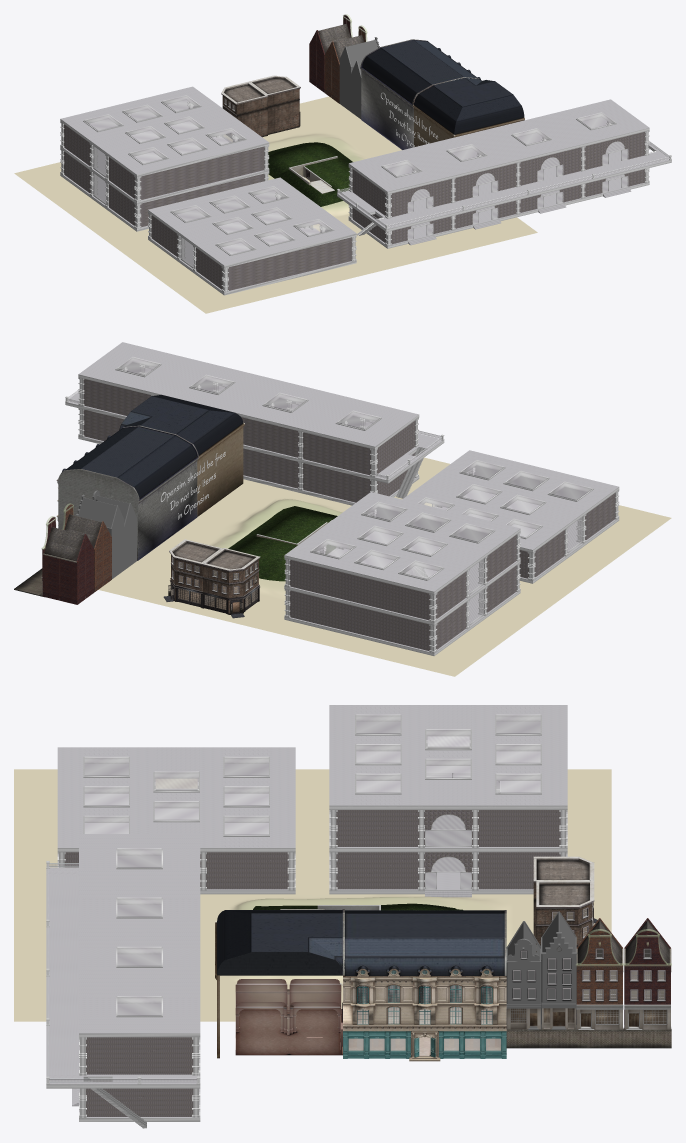
The picture shows the model from 3 angles, top to bottom: view 1: azimuth 30°, elevation 25°; view 2: azimuth 150°, elevation 25°; view 3: azimuth 270°, elevation 25°; orthographic projection. The views are drawn at different scales.
Parts seen in each view (by area): view 1: SC - SMBLDG04A - Building 04A, SC - SMBLDG02AV2 - Building 02AV2, SC - SMBLDG02V2 - Building 02V2, Onsu ~ Commercial Prefab ~ Base1 (×2), SC - SMBLDG04 - Building 04, Terrain 4,8, Onsu ~ Commercial Prefab ~ Inner Corner (×2), Terrain 5,8, Terrain 5,9, Terrain 4,9, CaveShopCover (×2), Soho - Building 1 Corner - Bricks (×3) (+7 smaller); view 2: SC - SMBLDG02AV2 - Building 02AV2, SC - SMBLDG04A - Building 04A, SC - SMBLDG02V2 - Building 02V2, Onsu ~ Commercial Prefab ~ Base1 (×3), Terrain 5,9, Terrain 4,9, Onsu ~ Commercial Prefab ~ Inner Corner (×2), Terrain 4,8, prim0-mesh#36 (×2), Terrain 5,8, CaveShopCover (×2), Soho - Building 1 Corner - Bricks (×4) (+7 smaller); view 3: SC - SMBLDG02AV2 - Building 02AV2, SC - SMBLDG04A - Building 04A, SC - SMBLDG02V2 - Building 02V2, Onsu ~ Commercial Prefab ~ Base1 (×8), Onsu ~ Commercial Prefab ~ Inner Corner (×5), Terrain 5,8, Terrain 4,8, SC - SMBLDG04 - Building 04 (×2), Terrain 4,9, SC - SMBLD01 - floor (×3), prim0-mesh#36 (×2), prim0-mesh_0 (+8 smaller).
Part boxes in pixels (<box>): SC - SMBLDG04A - Building 04A: <box>338,99,669,248</box>; SC - SMBLDG02AV2 - Building 02AV2: <box>60,86,269,231</box>; SC - SMBLDG02V2 - Building 02V2: <box>148,177,356,295</box>; Onsu ~ Commercial Prefab ~ Base1 (×2): <box>361,40,478,149</box>; SC - SMBLDG04 - Building 04: <box>351,142,660,229</box>; Terrain 4,8: <box>110,234,371,313</box>; Onsu ~ Commercial Prefab ~ Inner Corner (×2): <box>414,77,524,146</box>; Terrain 5,8: <box>311,201,537,273</box>; Terrain 5,9: <box>224,96,401,181</box>; Terrain 4,9: <box>14,162,148,243</box>; CaveShopCover (×2): <box>268,142,352,206</box>; Soho - Building 1 Corner - Bricks (×3): <box>222,95,299,137</box>; SC - SMBLDG02AV2 - Building 02AV2: <box>284,492,520,655</box>; SC - SMBLDG04A - Building 04A: <box>67,342,442,505</box>; SC - SMBLDG02V2 - Building 02V2: <box>402,450,619,583</box>; Onsu ~ Commercial Prefab ~ Base1 (×3): <box>56,426,197,560</box>; Terrain 5,9: <box>98,510,285,630</box>; Terrain 4,9: <box>267,587,562,676</box>; Onsu ~ Commercial Prefab ~ Inner Corner (×2): <box>119,394,243,516</box>; Terrain 4,8: <box>519,505,671,597</box>; prim0-mesh#36 (×2): <box>42,504,111,604</box>; Terrain 5,8: <box>207,457,449,520</box>; CaveShopCover (×2): <box>228,506,337,581</box>; Soho - Building 1 Corner - Bricks (×4): <box>173,542,258,614</box>; SC - SMBLDG02AV2 - Building 02AV2: <box>329,705,567,894</box>; SC - SMBLDG04A - Building 04A: <box>47,834,200,1121</box>; SC - SMBLDG02V2 - Building 02V2: <box>57,747,295,894</box>; Onsu ~ Commercial Prefab ~ Base1 (×8): <box>342,910,506,1056</box>; Onsu ~ Commercial Prefab ~ Inner Corner (×5): <box>217,910,342,1055</box>; Terrain 5,8: <box>14,895,312,1021</box>; Terrain 4,8: <box>14,769,312,895</box>; SC - SMBLDG04 - Building 04 (×2): <box>46,876,200,1088</box>; Terrain 4,9: <box>312,769,611,895</box>; SC - SMBLD01 - floor (×3): <box>329,751,567,852</box>; prim0-mesh#36 (×2): <box>576,918,670,1028</box>; prim0-mesh_0: <box>506,911,576,1029</box>.
Size of what is drawn, in the model's own units: 184 by 28.65 by 141.
Materials: 147 (145 with a texture image).
